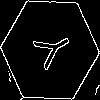Y: (25, 25, 75, 75)
